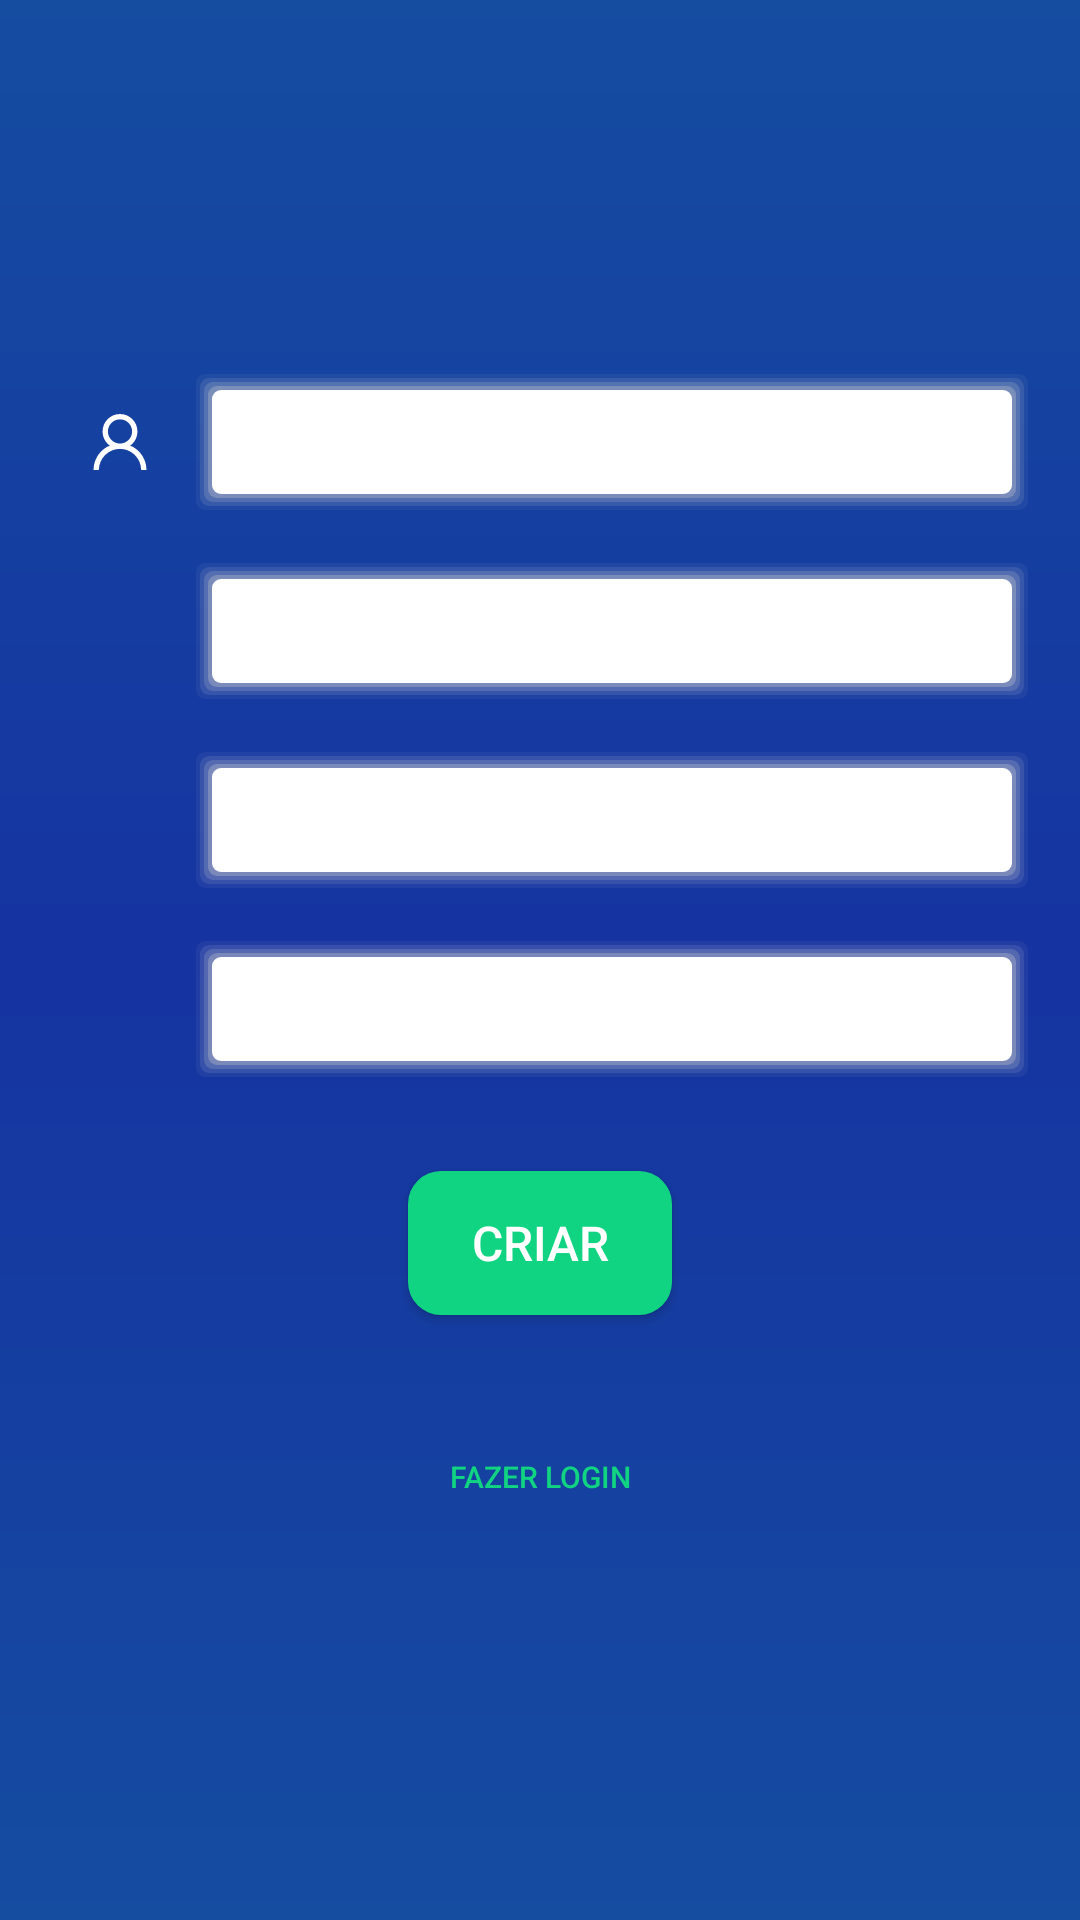

Named icons in this screenshot (1080 × 1920) and their bounding boxes, {"x1": x1, "y1": y1, "x2": x2, "y2": y2}:
user: {"x1": 93, "y1": 414, "x2": 147, "y2": 470}
